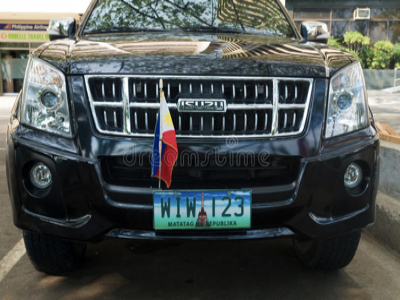licence: (153, 191, 254, 231)
